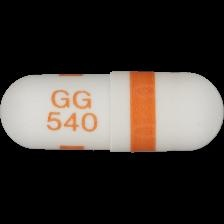0615-1387: (0, 0, 224, 224)
